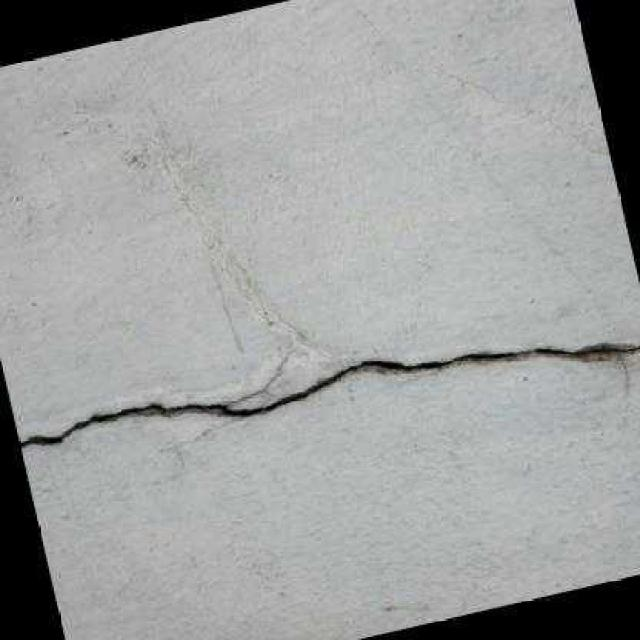D00: (19, 342, 640, 450)
